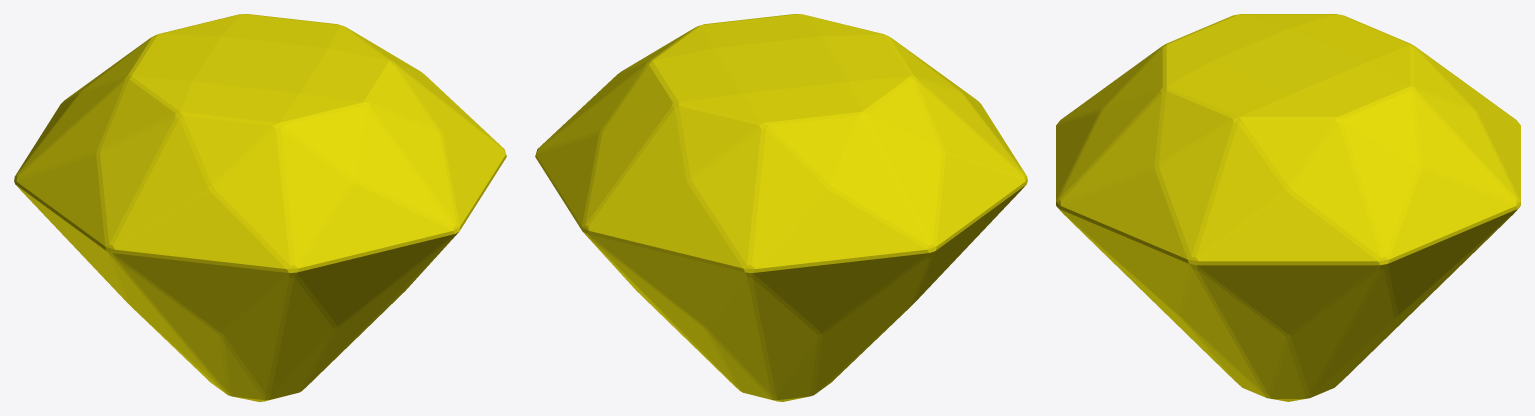
The model's file is Yellow Chaos Emerald.obj.
3 renders of one model, left to right at view 1: azimuth 30°, elevation 25°; view 2: azimuth 150°, elevation 25°; view 3: azimuth 270°, elevation 25°, orthographic.
Size of the model in its own units: 37.38 by 29.91 by 37.38.
Materials: 1 (1 with a texture image).
